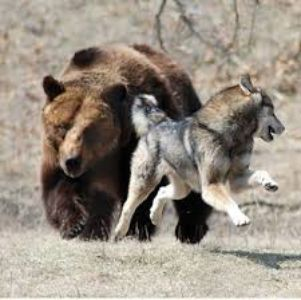bear: (41, 45, 131, 245)
wolf: (127, 78, 294, 236)
